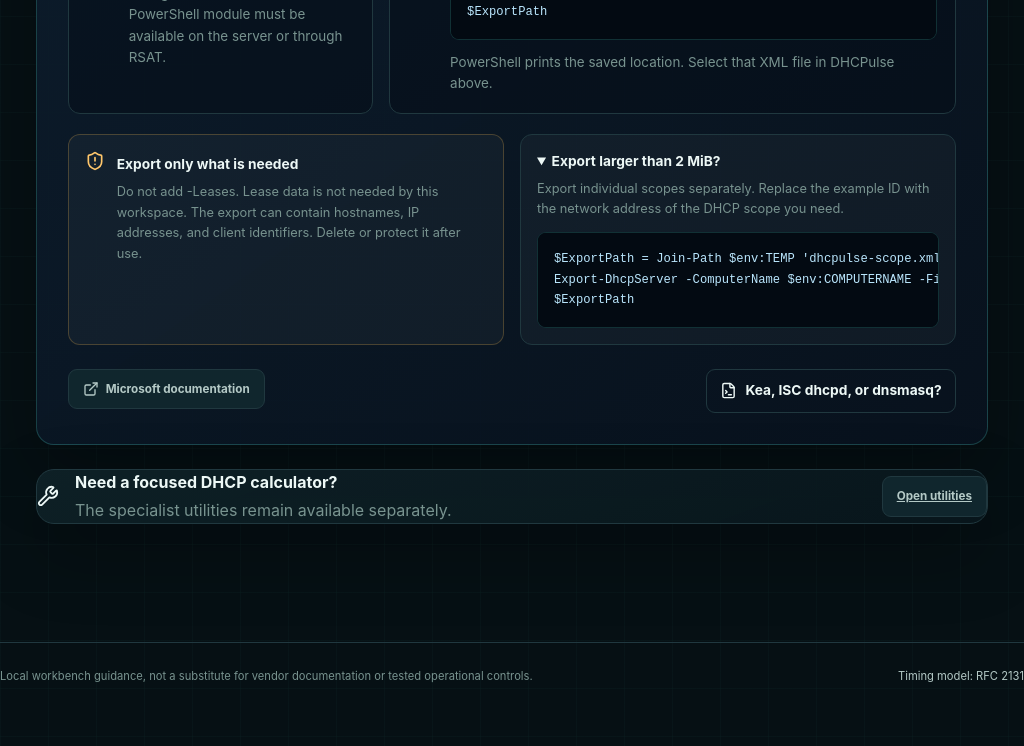
Test case: DHCPulse Workbench › keeps specialist utilities reachable on a subordinate route
(page scrolled)
Expected: the link "PXE boot" is not shown
What coordinates should you click on to do the following:
click the link "Open utilities"
I would click on:
 (934, 496)
Its box is [882,476,987,516].
(page scrolled)
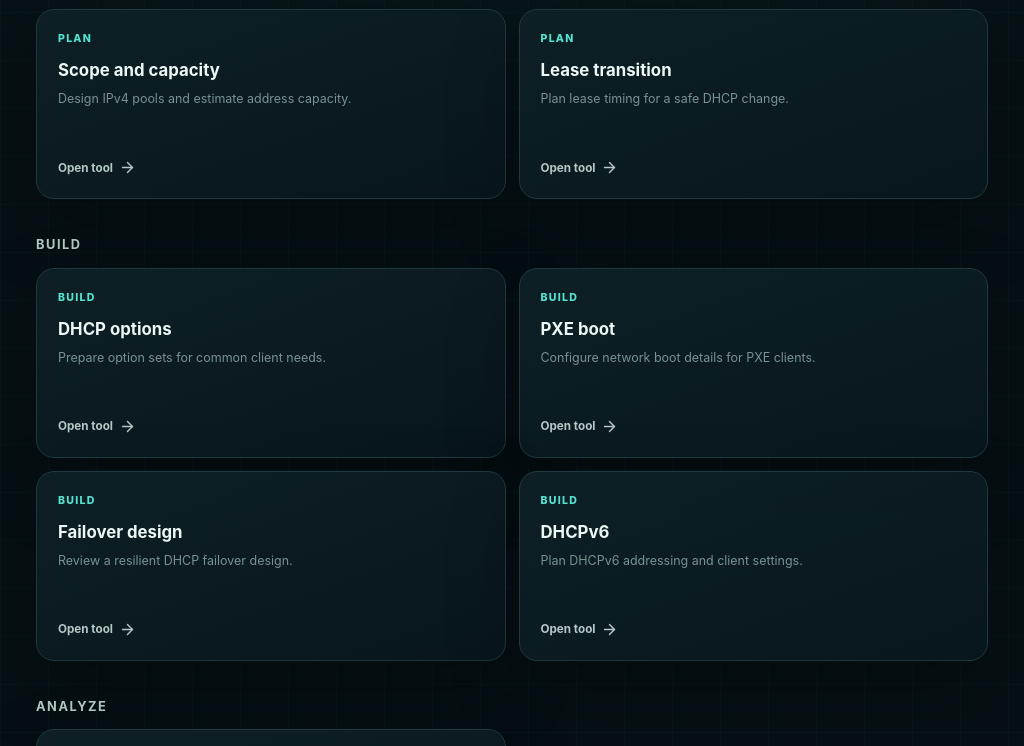
Expected: the link "PXE boot" is shown, [518,268,988,458]
